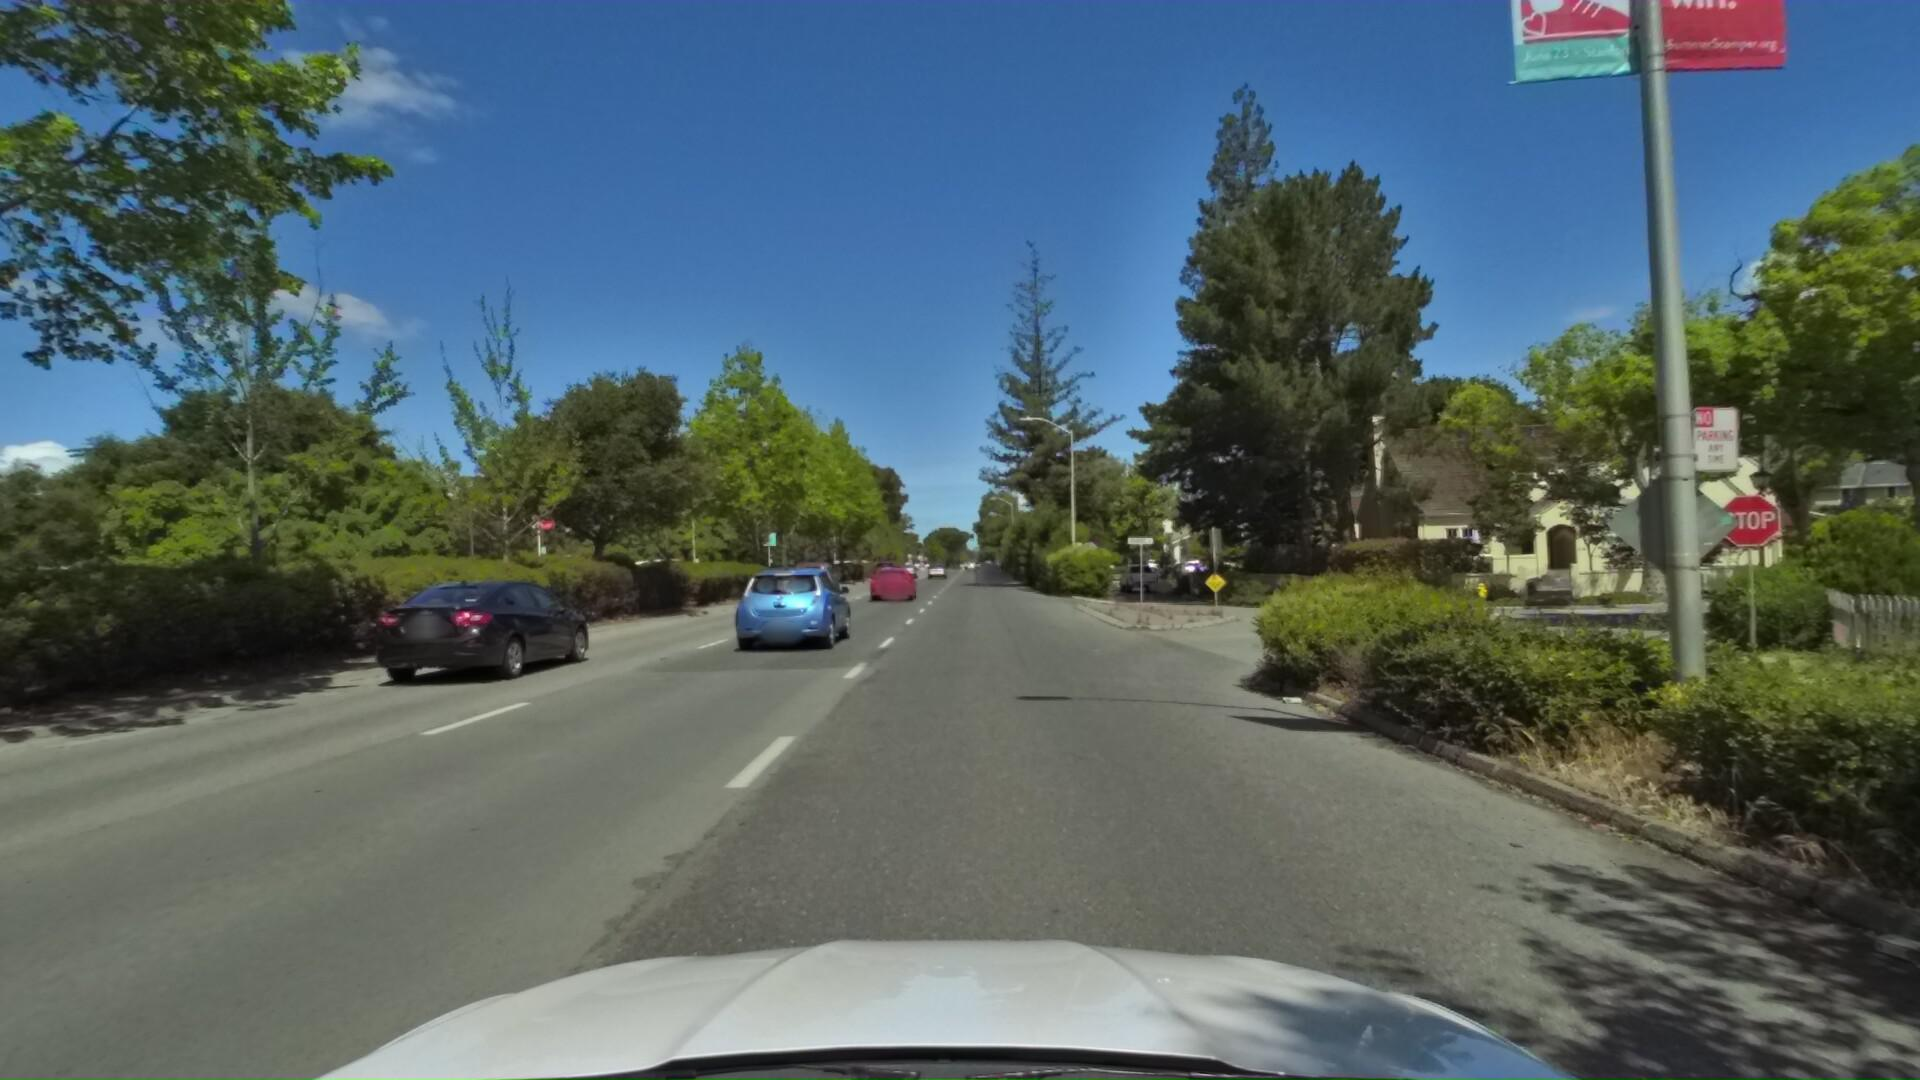car: (353, 578, 600, 696), (724, 556, 852, 649), (793, 558, 847, 601), (1172, 556, 1247, 585), (868, 560, 919, 600), (1120, 560, 1160, 595), (968, 560, 1001, 585), (873, 556, 898, 580)
